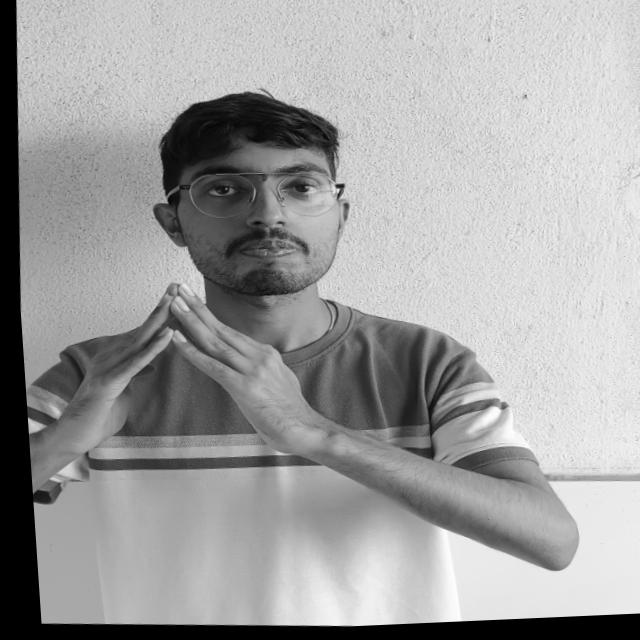Home: (29, 263, 343, 496)
